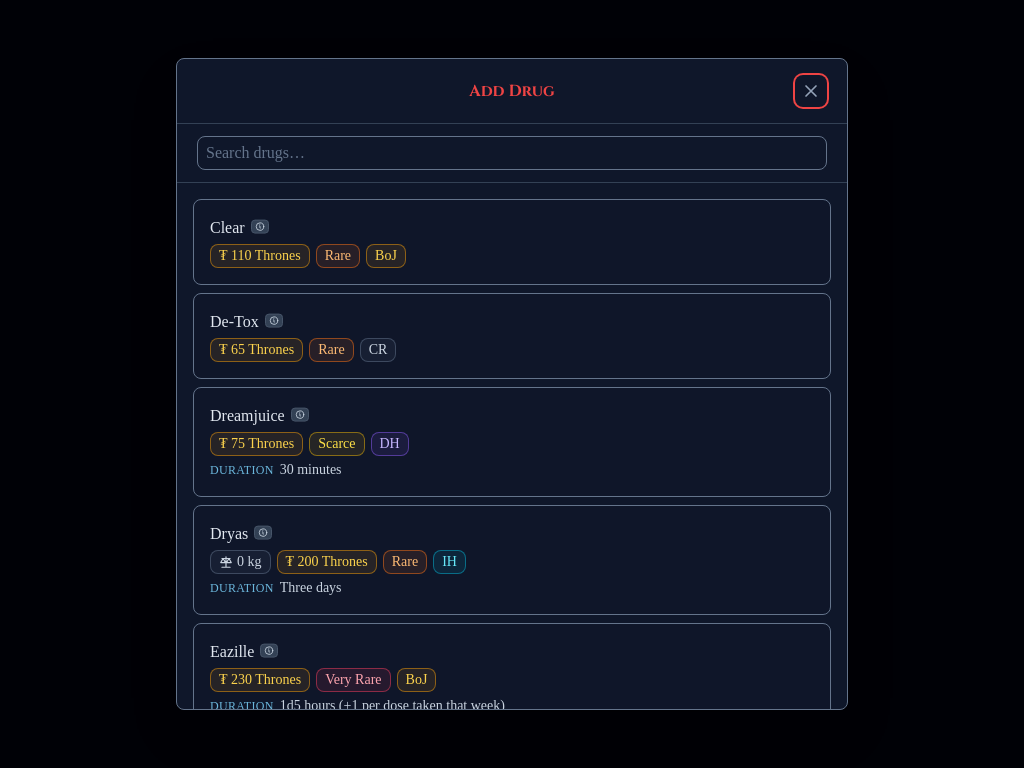
DrugPicker › filters the list by search query
In the search field with placeholder "Search drugs…": [512, 153] box left=197, top=136, right=827, bottom=170, type "frenzon"
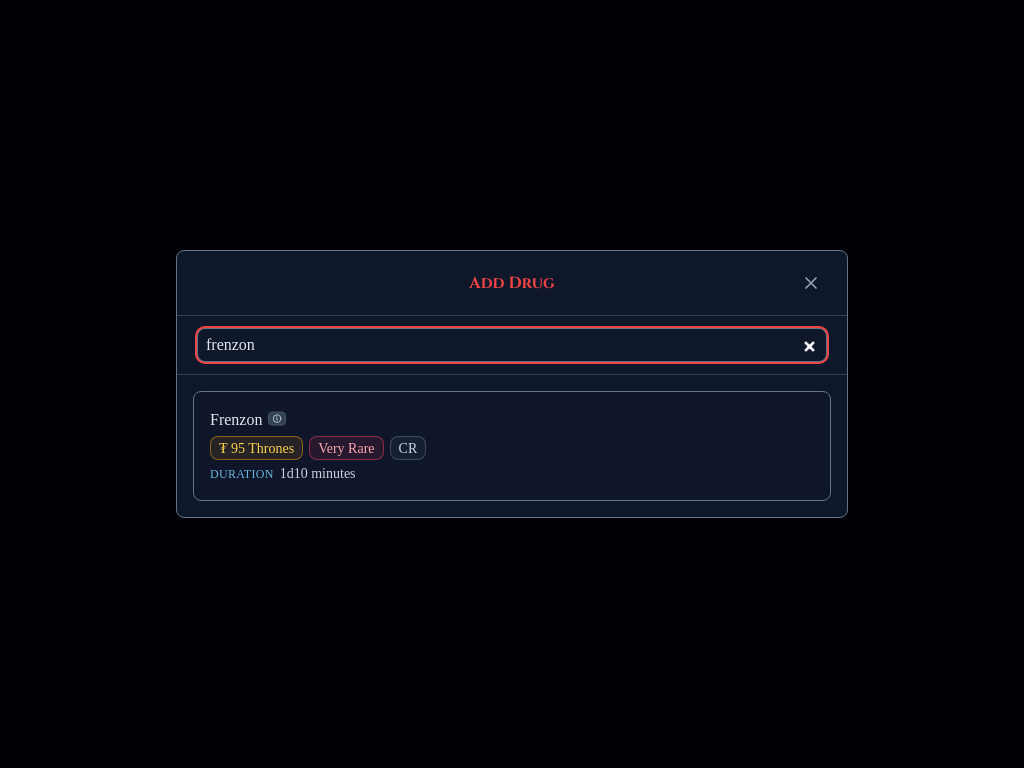
Now the text "Frenzon" is shown, box left=210, top=408, right=262, bottom=432
